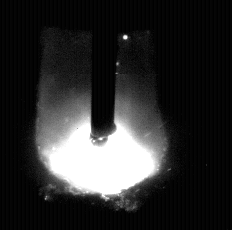arame: (91, 0, 117, 144)
poca: (34, 0, 168, 230)
